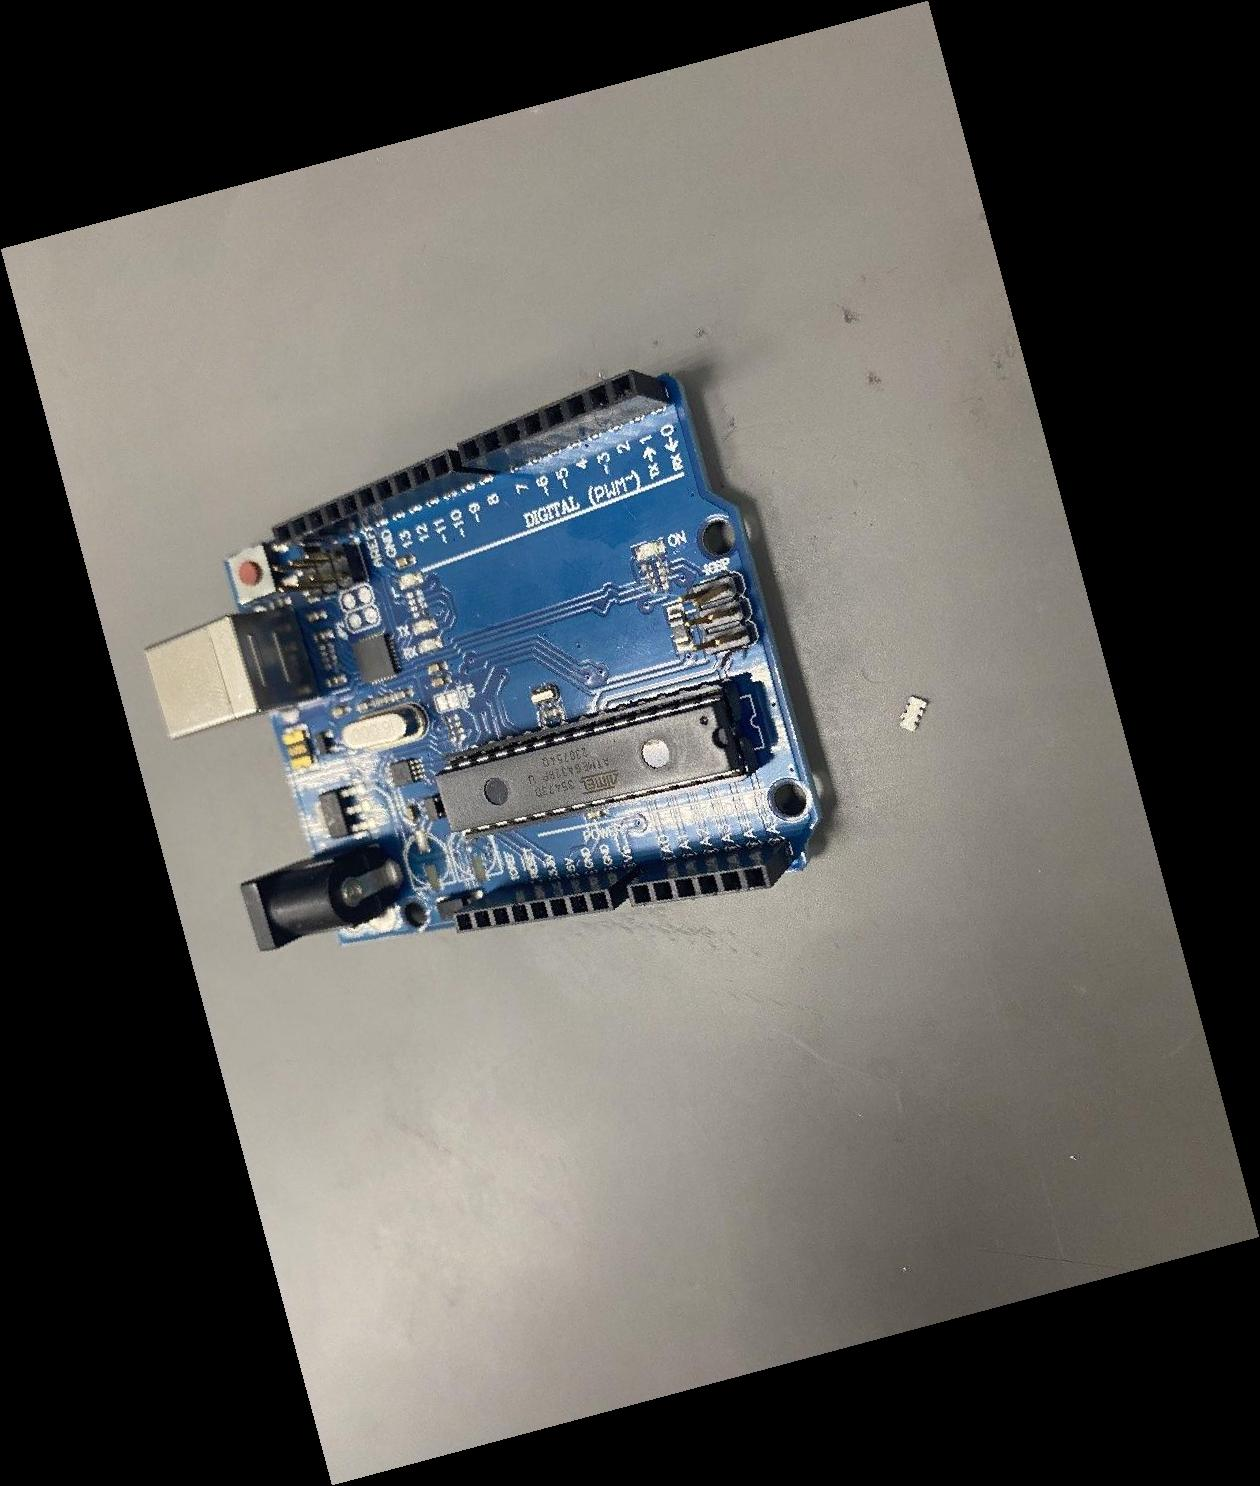ATmega328 chip: (436, 680, 759, 844)
Arduino board: (145, 369, 825, 951)
USB: (144, 607, 322, 740)
pins: (274, 449, 496, 547), (457, 370, 669, 474), (455, 865, 637, 935), (627, 840, 792, 907)
